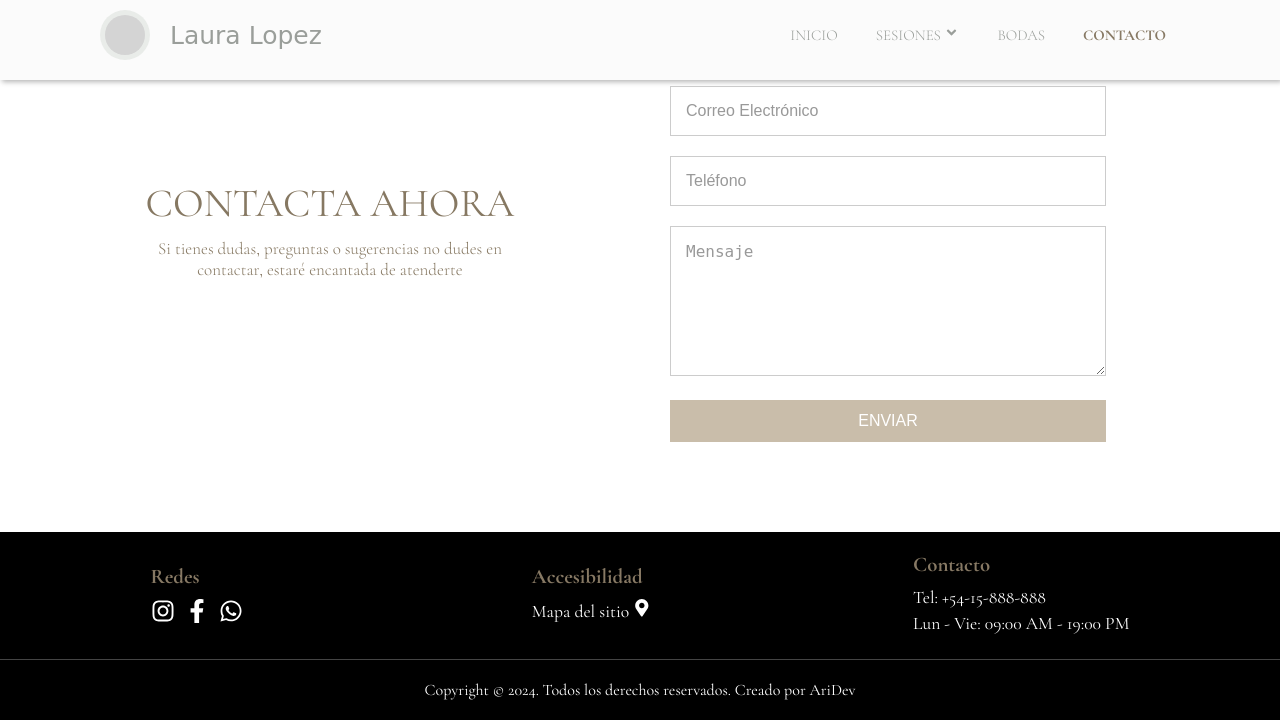
it: FormContact Component › should display validation errors when fields are left empty
(page scrolled)
Click the button with test id "submit-button" at (888, 421), box [670,400,1106,442]
(page scrolled)
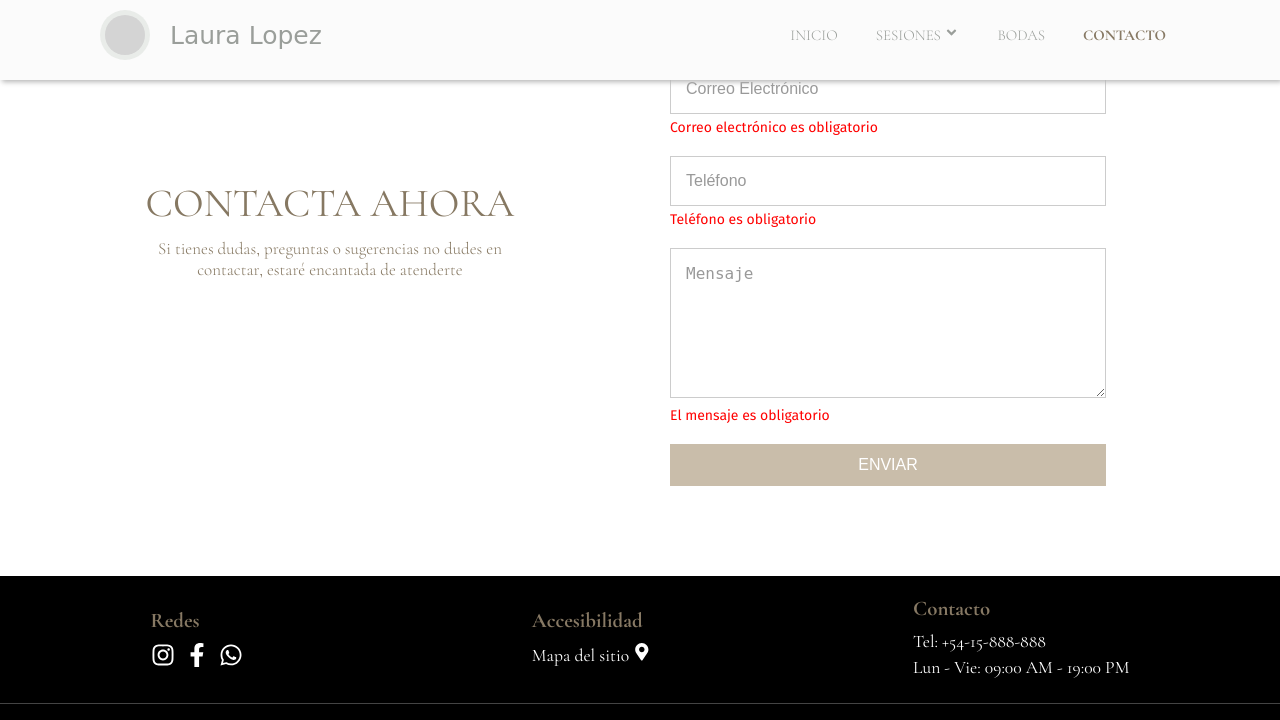
Expected: the text with test id "error-correo" reads "Correo electrónico es obligatorio", [670,119,878,136]
Expected: the text with test id "error-telefono" reads "Teléfono es obligatorio", [670,211,816,228]
Expected: the text with test id "error-mensaje" reads "El mensaje es obligatorio", [670,407,830,424]
